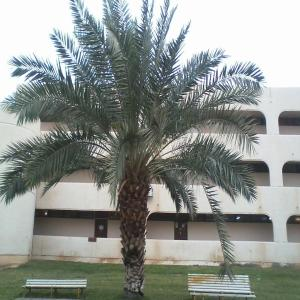palm tree: (0, 0, 267, 298)
